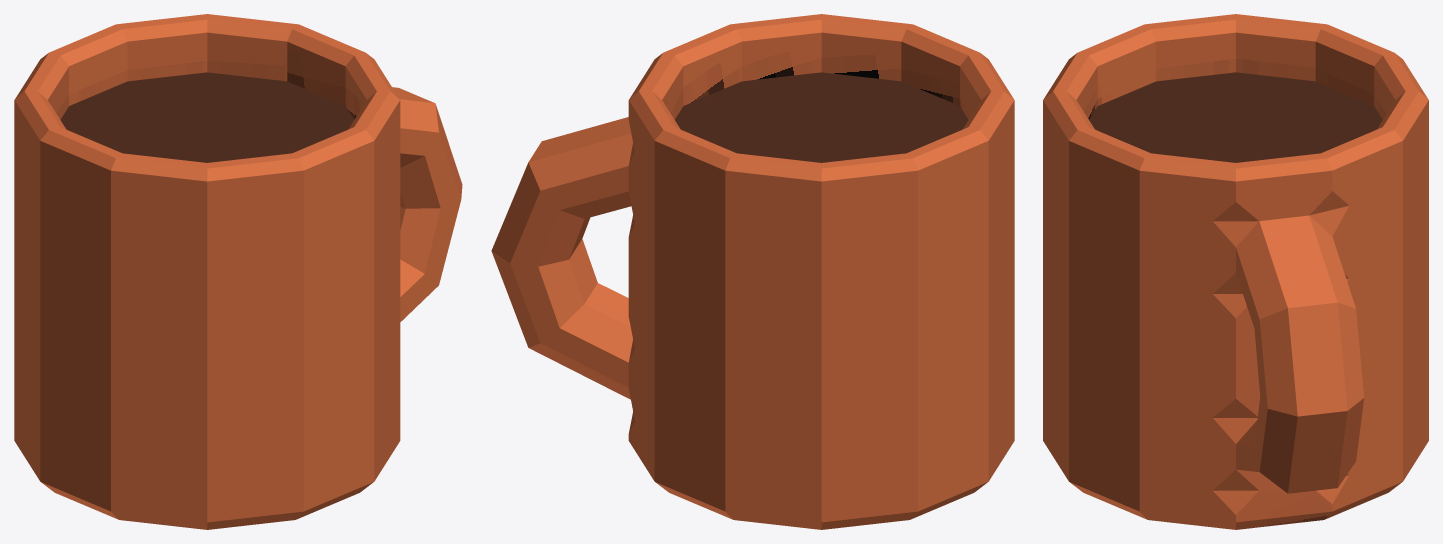
The model's file is kubek.fbx.
3 views of the same model, side by side, from view 1: azimuth 30°, elevation 25°; view 2: azimuth 150°, elevation 25°; view 3: azimuth 270°, elevation 25° (orthographic).
Visible parts, largest first — view 1: kubek; view 2: kubek; view 3: kubek.
Part boxes in pixels (x1,y1,x2,y2): kubek: (14,14,462,529); kubek: (491,14,1014,529); kubek: (1043,14,1428,529).
Bounding box in the file's own units: 3.25 × 2.5 × 2.4.
Materials: 1 (1 with a texture image).
